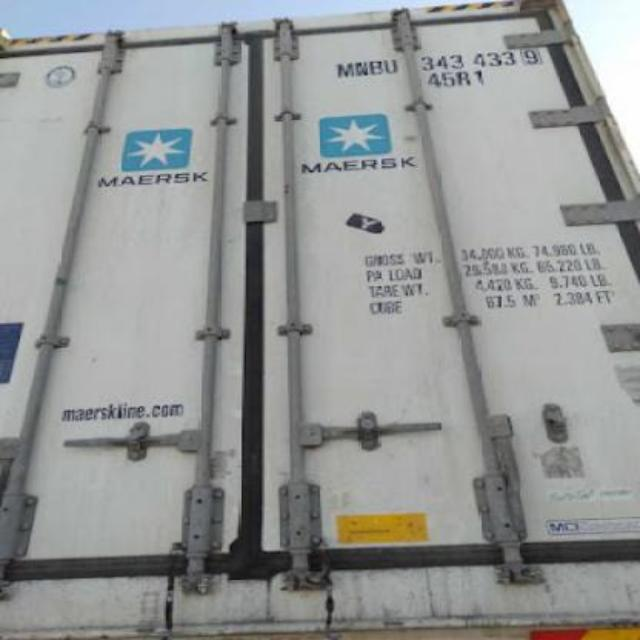3: (418, 54, 434, 74), (450, 52, 466, 72), (500, 51, 516, 69), (488, 51, 502, 67)
4: (474, 51, 486, 71), (436, 55, 449, 71)
9: (522, 46, 540, 66)
B: (368, 60, 384, 78)
M: (334, 62, 354, 80)
N: (356, 60, 369, 78)
U: (382, 57, 400, 75)
